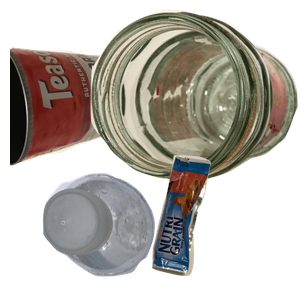glass: (90, 10, 300, 184)
metal: (10, 44, 151, 203)
plastic: (40, 170, 187, 300)
trash: (149, 152, 300, 300)
